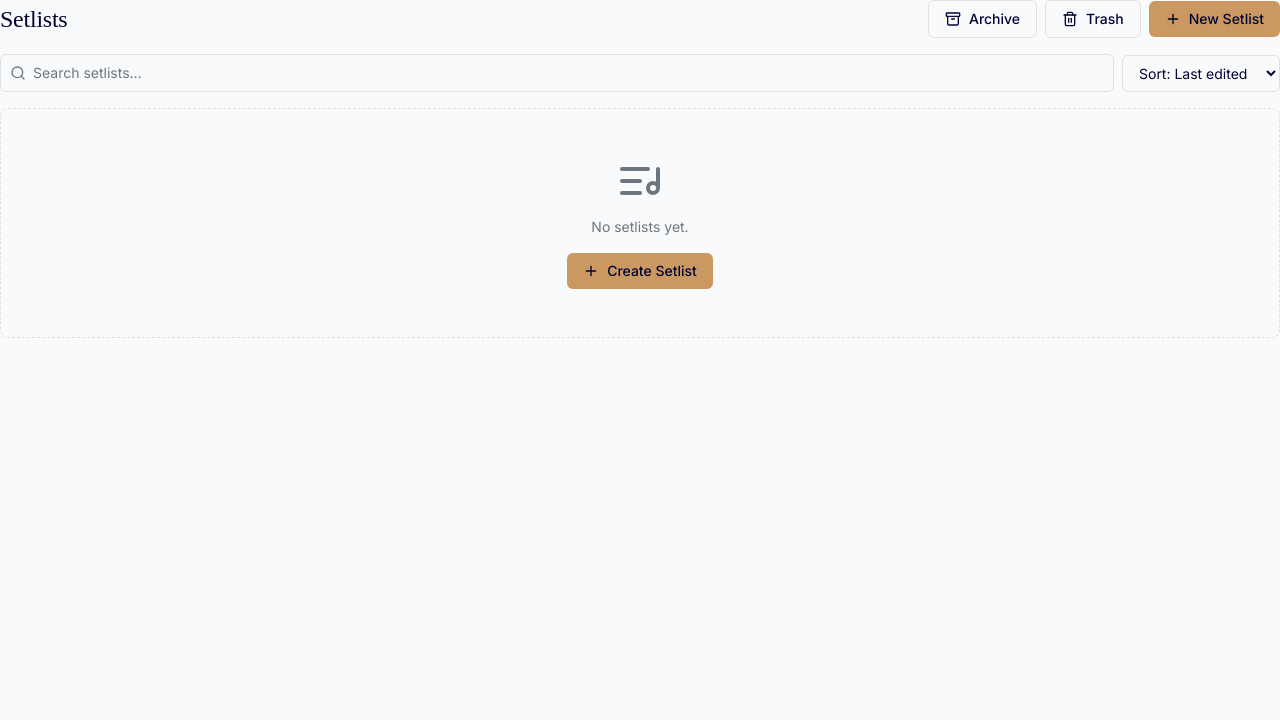
Test: SetlistHubPage › positive › opens the archived panel and lists archived setlists
Click the button "Archive". click: (983, 19)
box: 928,0 -> 1037,38
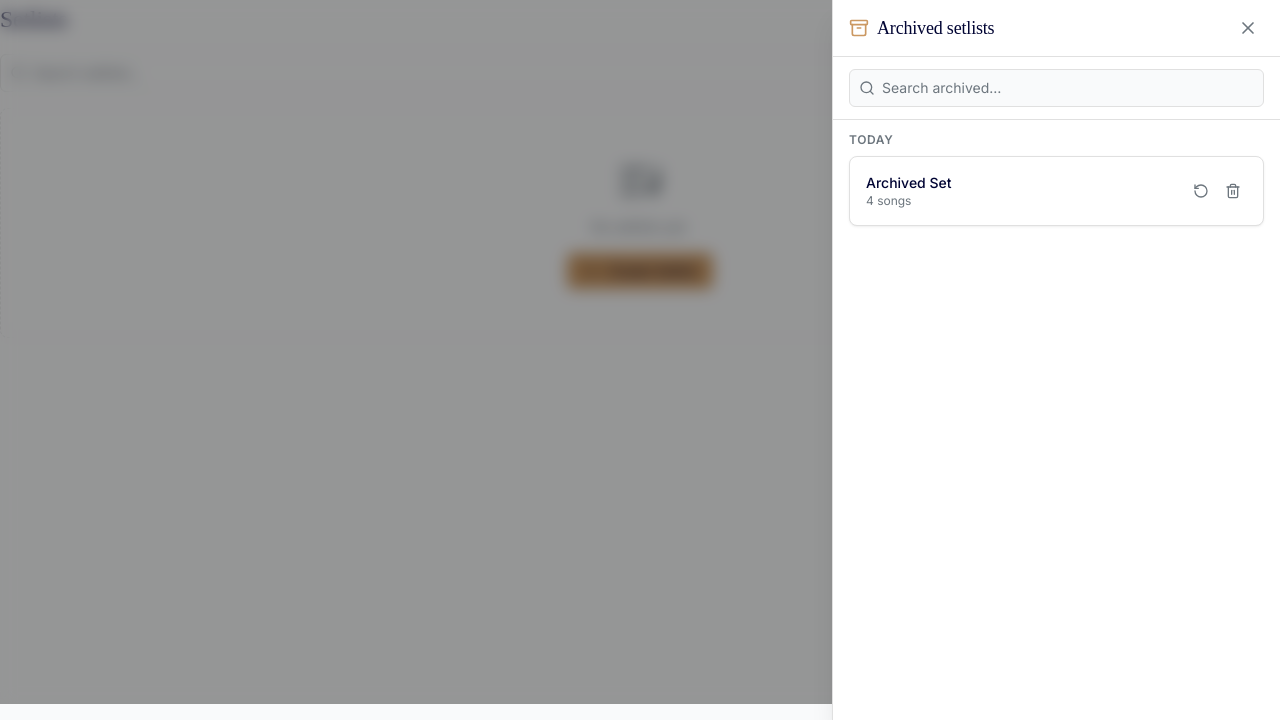
Result: the text "Archived Set" is shown at 866,174 -> 952,191
Result: the text "Today" is shown at 849,132 -> 893,147
